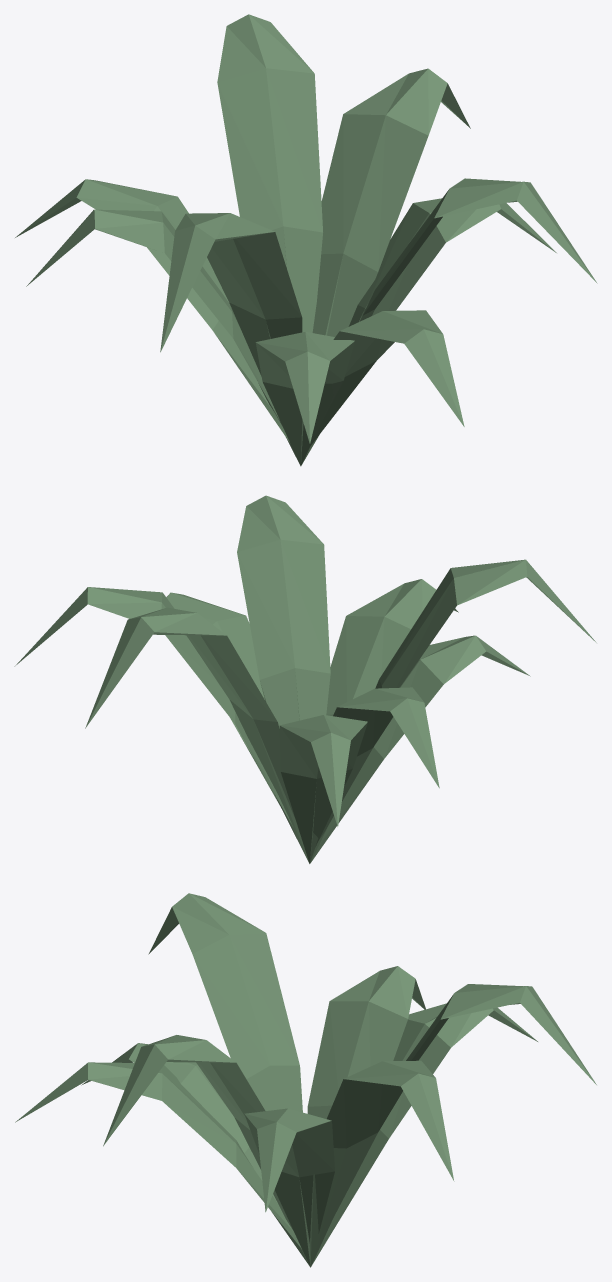
File: Fern.glb
The picture shows the model from 3 angles, top to bottom: view 1: azimuth 30°, elevation 25°; view 2: azimuth 150°, elevation 25°; view 3: azimuth 270°, elevation 25°; orthographic projection. The views are drawn at different scales.
Parts seen in each view (by area): view 1: Leaves; view 2: Leaves; view 3: Leaves.
Part boxes in pixels (left/top/right/bottom): Leaves: left=15, top=14, right=597, bottom=466; Leaves: left=14, top=495, right=596, bottom=863; Leaves: left=15, top=893, right=596, bottom=1267.
Bounding box in the file's own units: 5.78 × 3.99 × 6.78.
